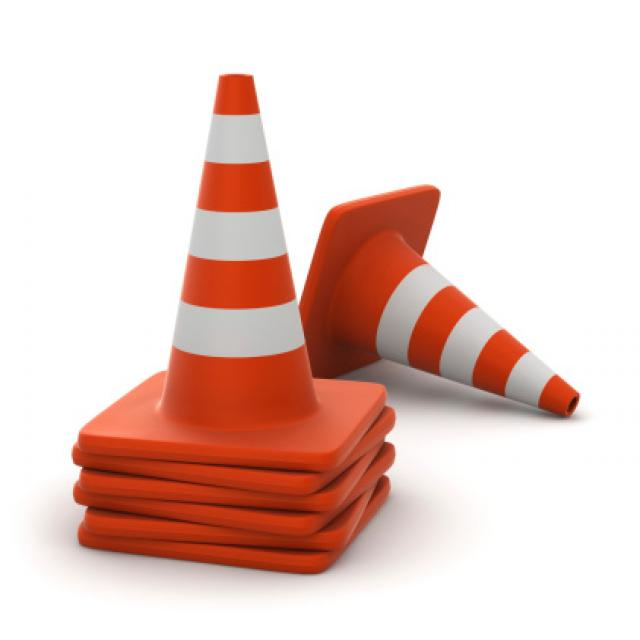cone: (80, 56, 387, 573), (310, 174, 620, 423)
